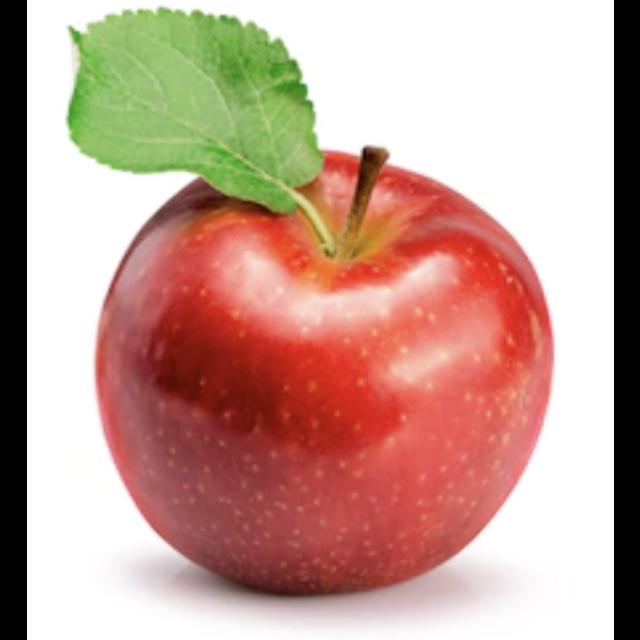Apel Segar: (86, 162, 572, 604)
